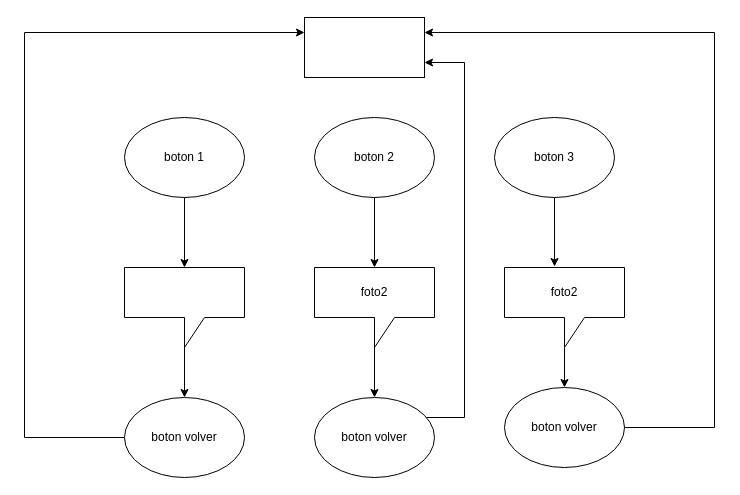
Image size: 740x495. Some labels were removed from this diagram. Each missing label, with the box of its shape:
foto1: (124, 266, 244, 348)
Interfaz principal: (304, 16, 424, 78)
